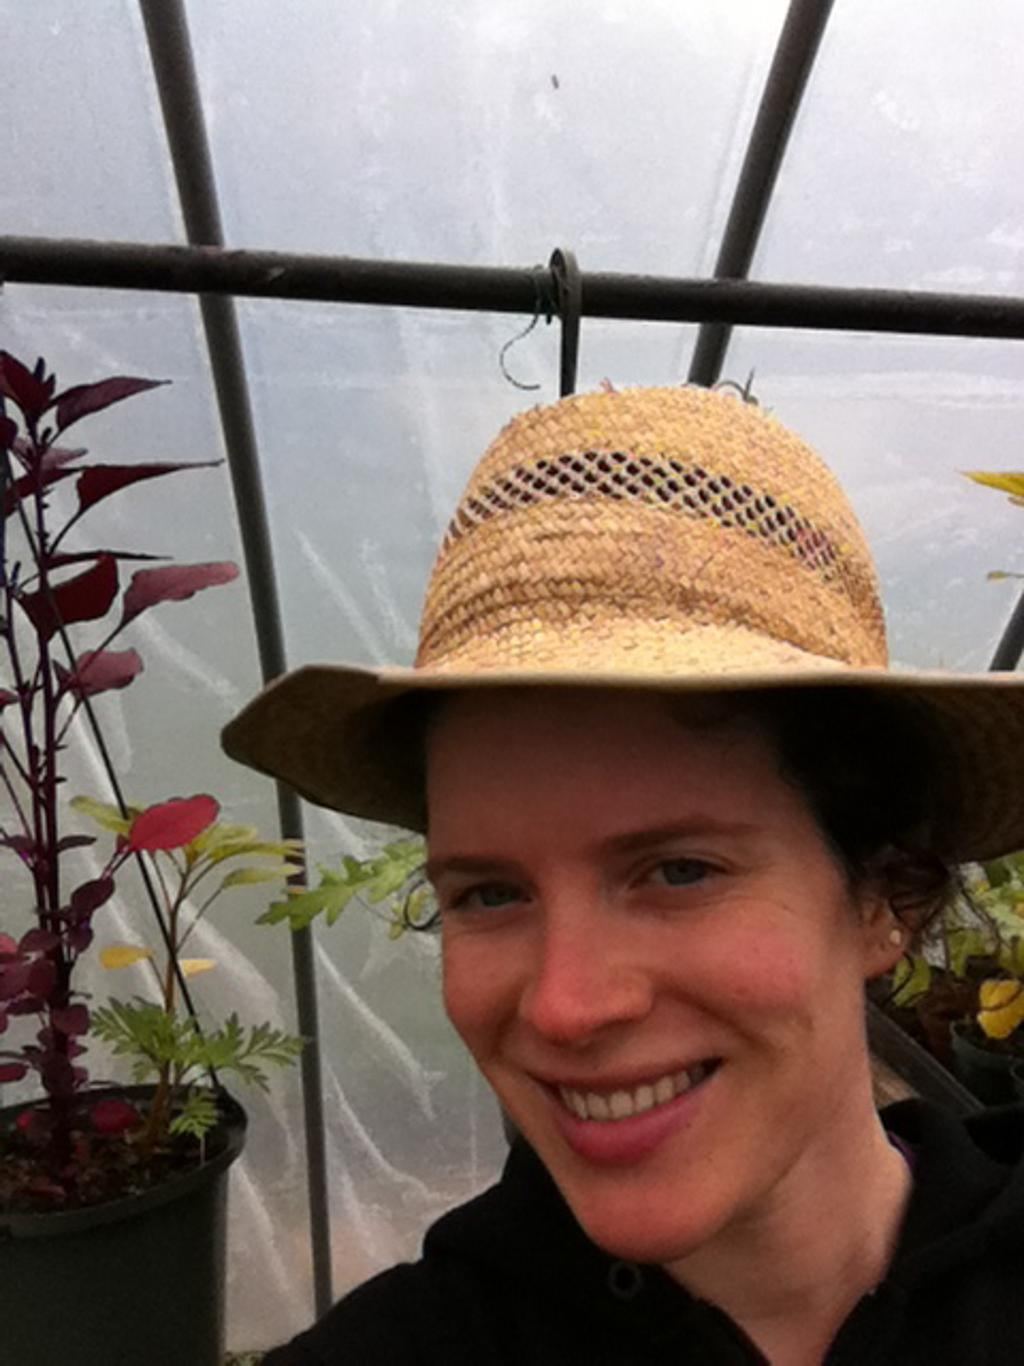face: (420, 665, 863, 1244)
